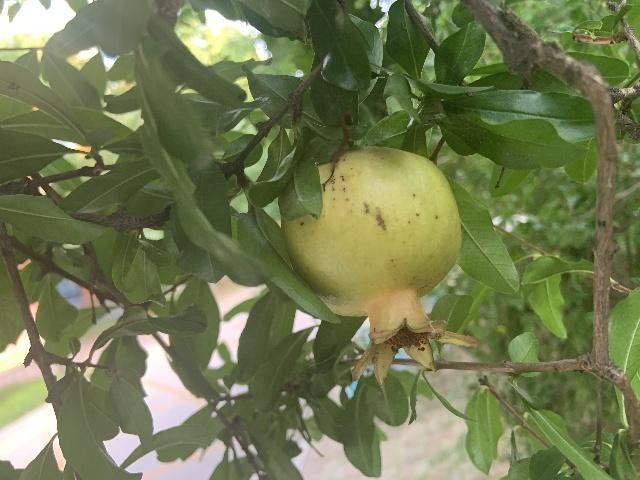mid-growth: (282, 146, 478, 388)
